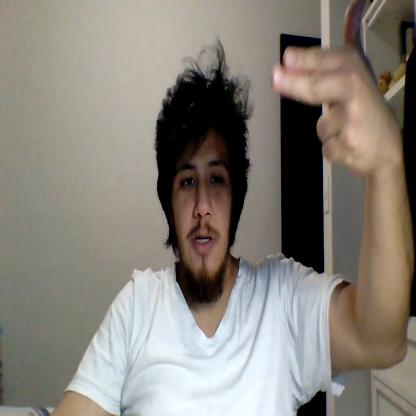H: (271, 0, 384, 173)
